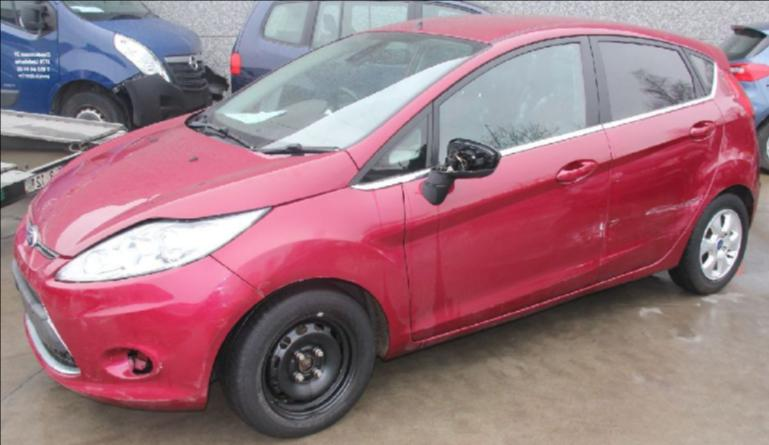Broken part: (431, 138, 498, 172)
Dent: (12, 218, 54, 279)
Missing part: (258, 312, 358, 419), (102, 348, 153, 379)
Paint chip: (178, 318, 229, 408), (68, 373, 176, 409), (599, 154, 681, 191), (208, 274, 233, 311), (681, 147, 715, 166), (152, 360, 166, 377)
Scratch: (564, 232, 675, 271), (574, 216, 621, 241), (645, 195, 702, 215)
